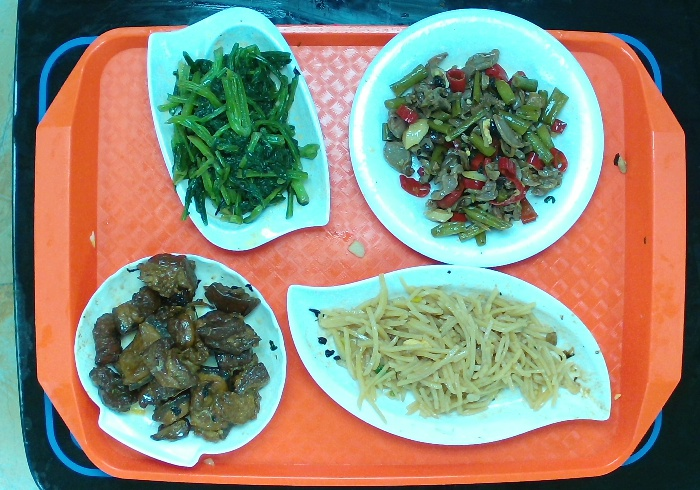RJxy-Bei_Ke_Wan: (71, 248, 288, 468)
RJxy-Jian_Jiao_Fang_Die: (137, 1, 339, 263)
RJxy-Jian_Jiao_Pan: (281, 260, 616, 448)
RJxy-Yuan_Pan: (344, 3, 605, 272)
